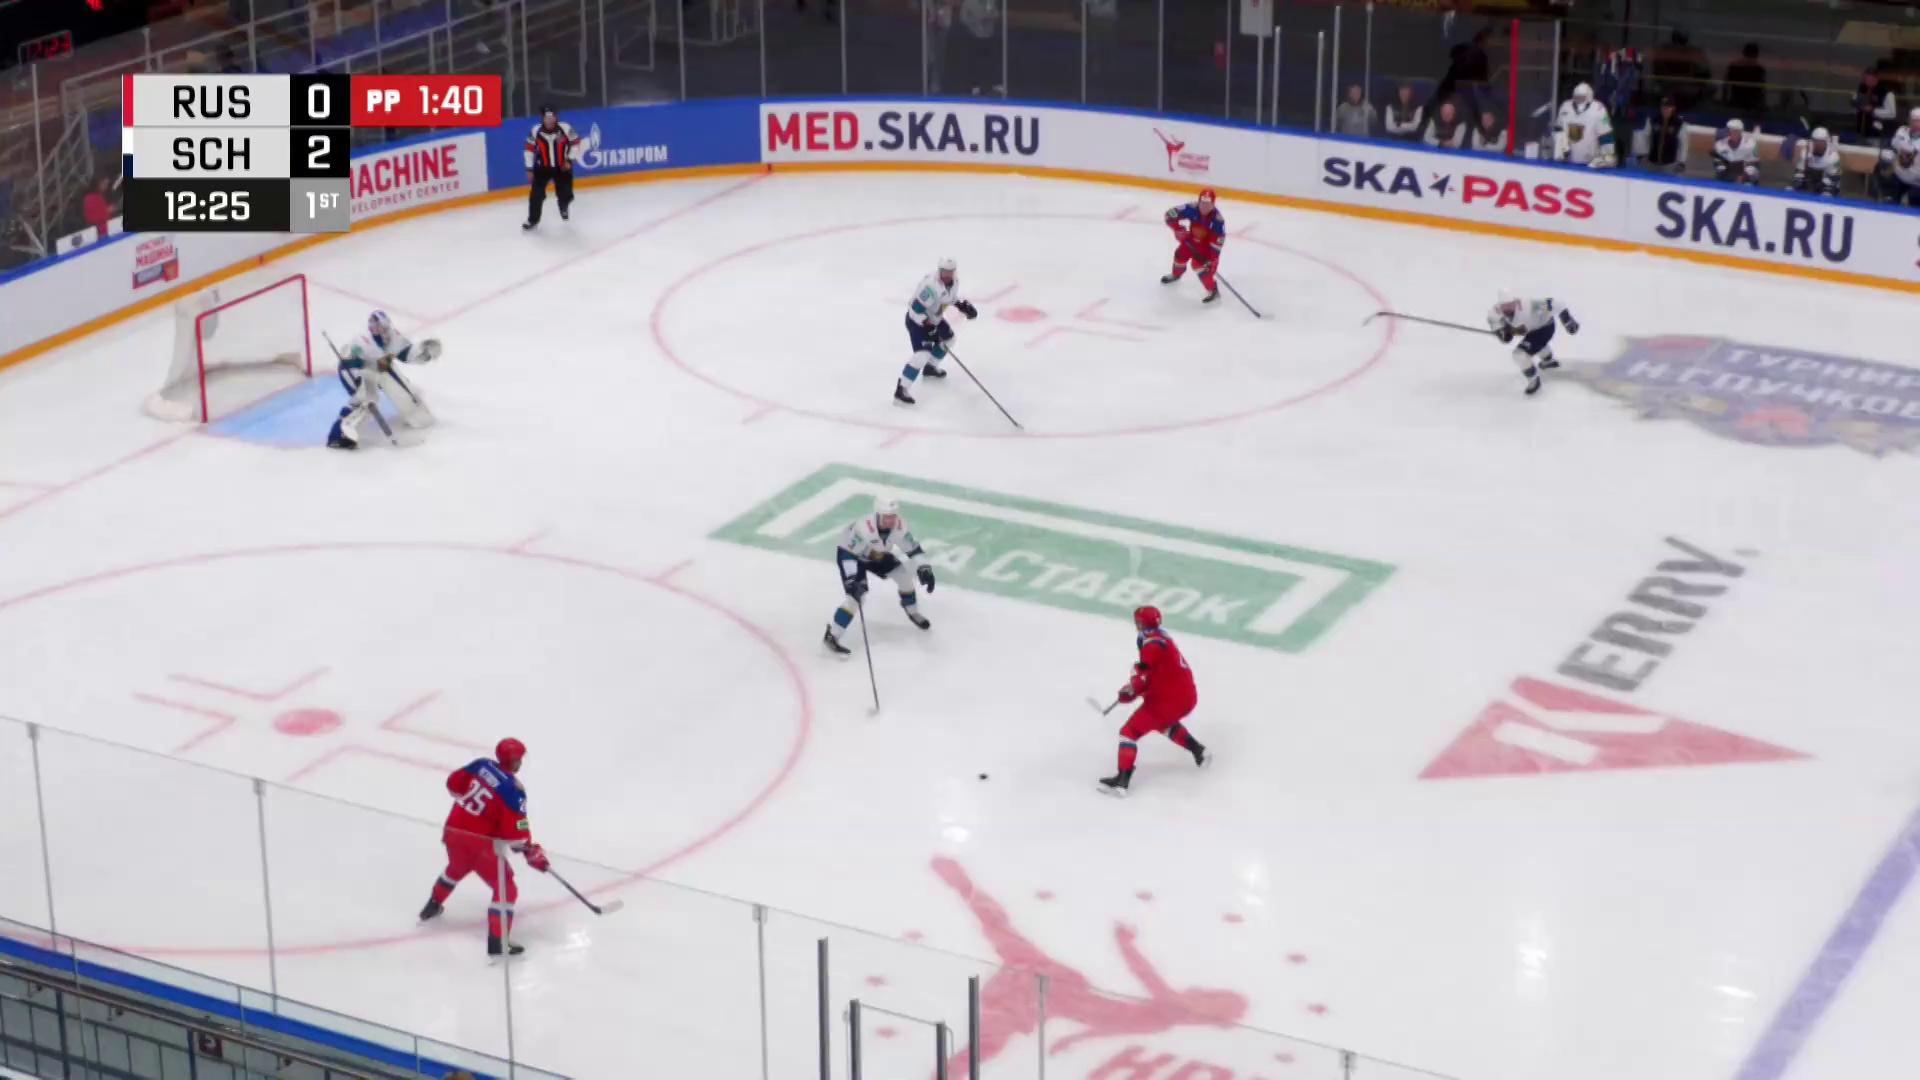ball: (978, 773, 989, 779)
